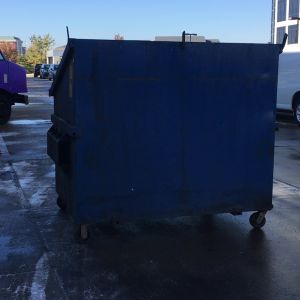Dumpster: (45, 23, 292, 246)
